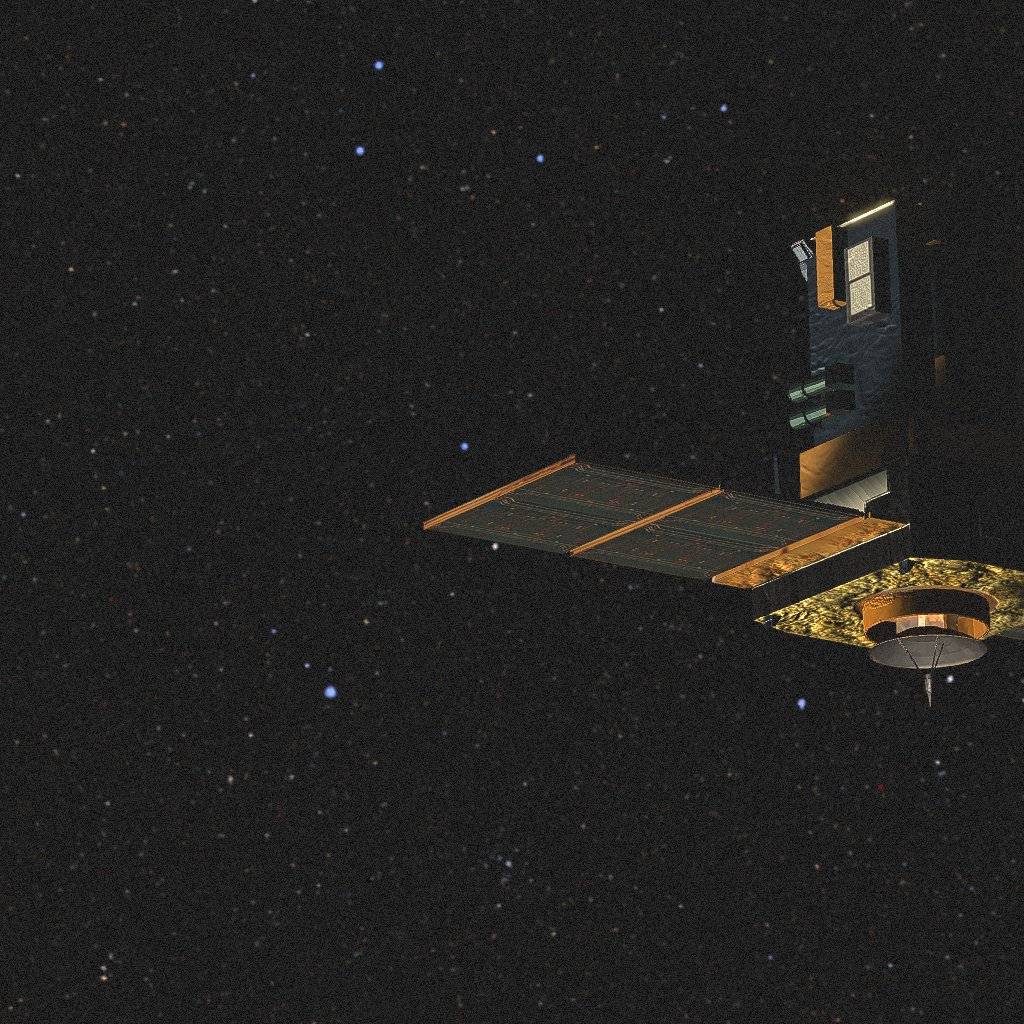soho: (423, 197, 1024, 707)
